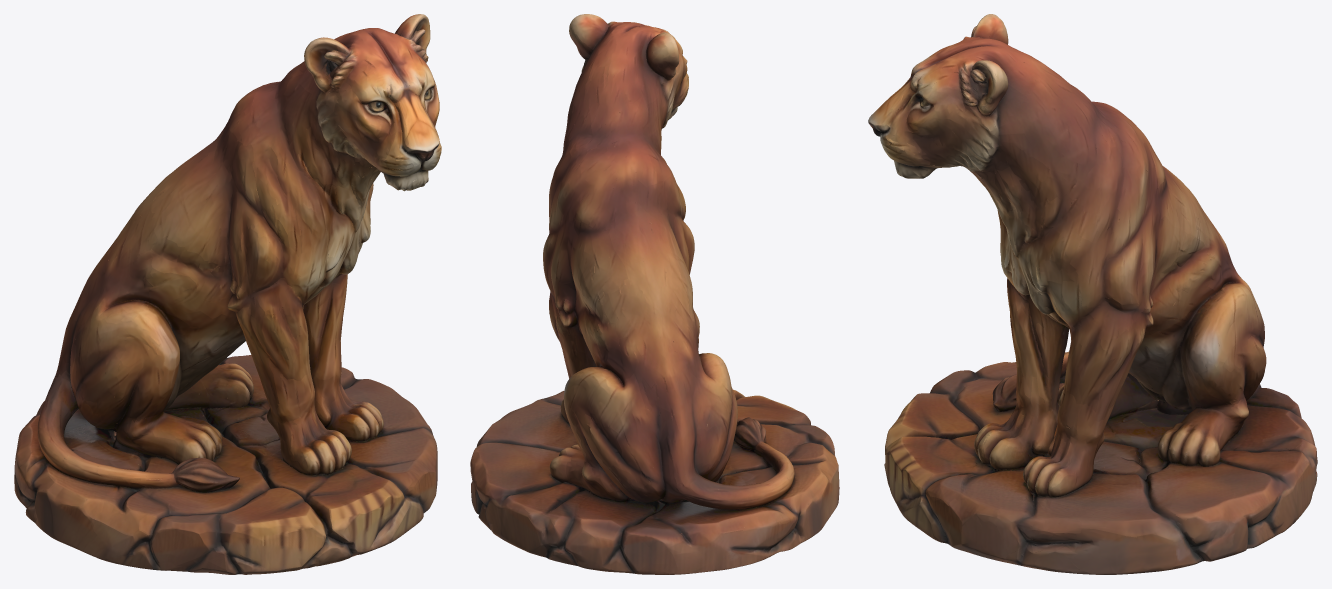
Rendered from Lioness.glb.
The picture shows the model from 3 angles, left to right: view 1: azimuth 30°, elevation 25°; view 2: azimuth 150°, elevation 25°; view 3: azimuth 270°, elevation 25°; orthographic projection. The views are drawn at different scales.
Visible parts, largest first — view 1: output_unwrapped; view 2: output_unwrapped; view 3: output_unwrapped.
Part boxes in pixels (<box>): output_unwrapped: <box>14,14,441,574</box>; output_unwrapped: <box>470,14,839,574</box>; output_unwrapped: <box>868,14,1317,574</box>.
Bounding box in the file's own units: 1.59 × 2 × 1.66.
Materials: 1 (1 with a texture image).
